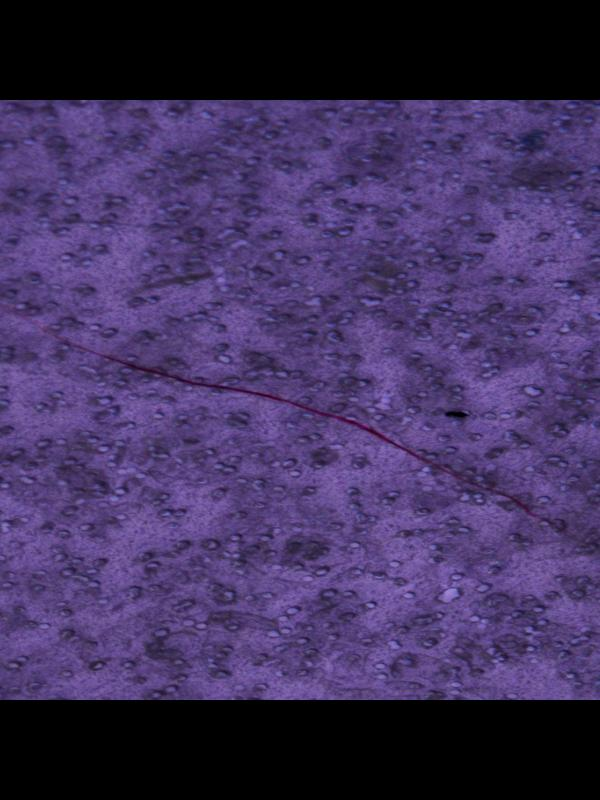microplastic: (0, 101, 600, 698)
